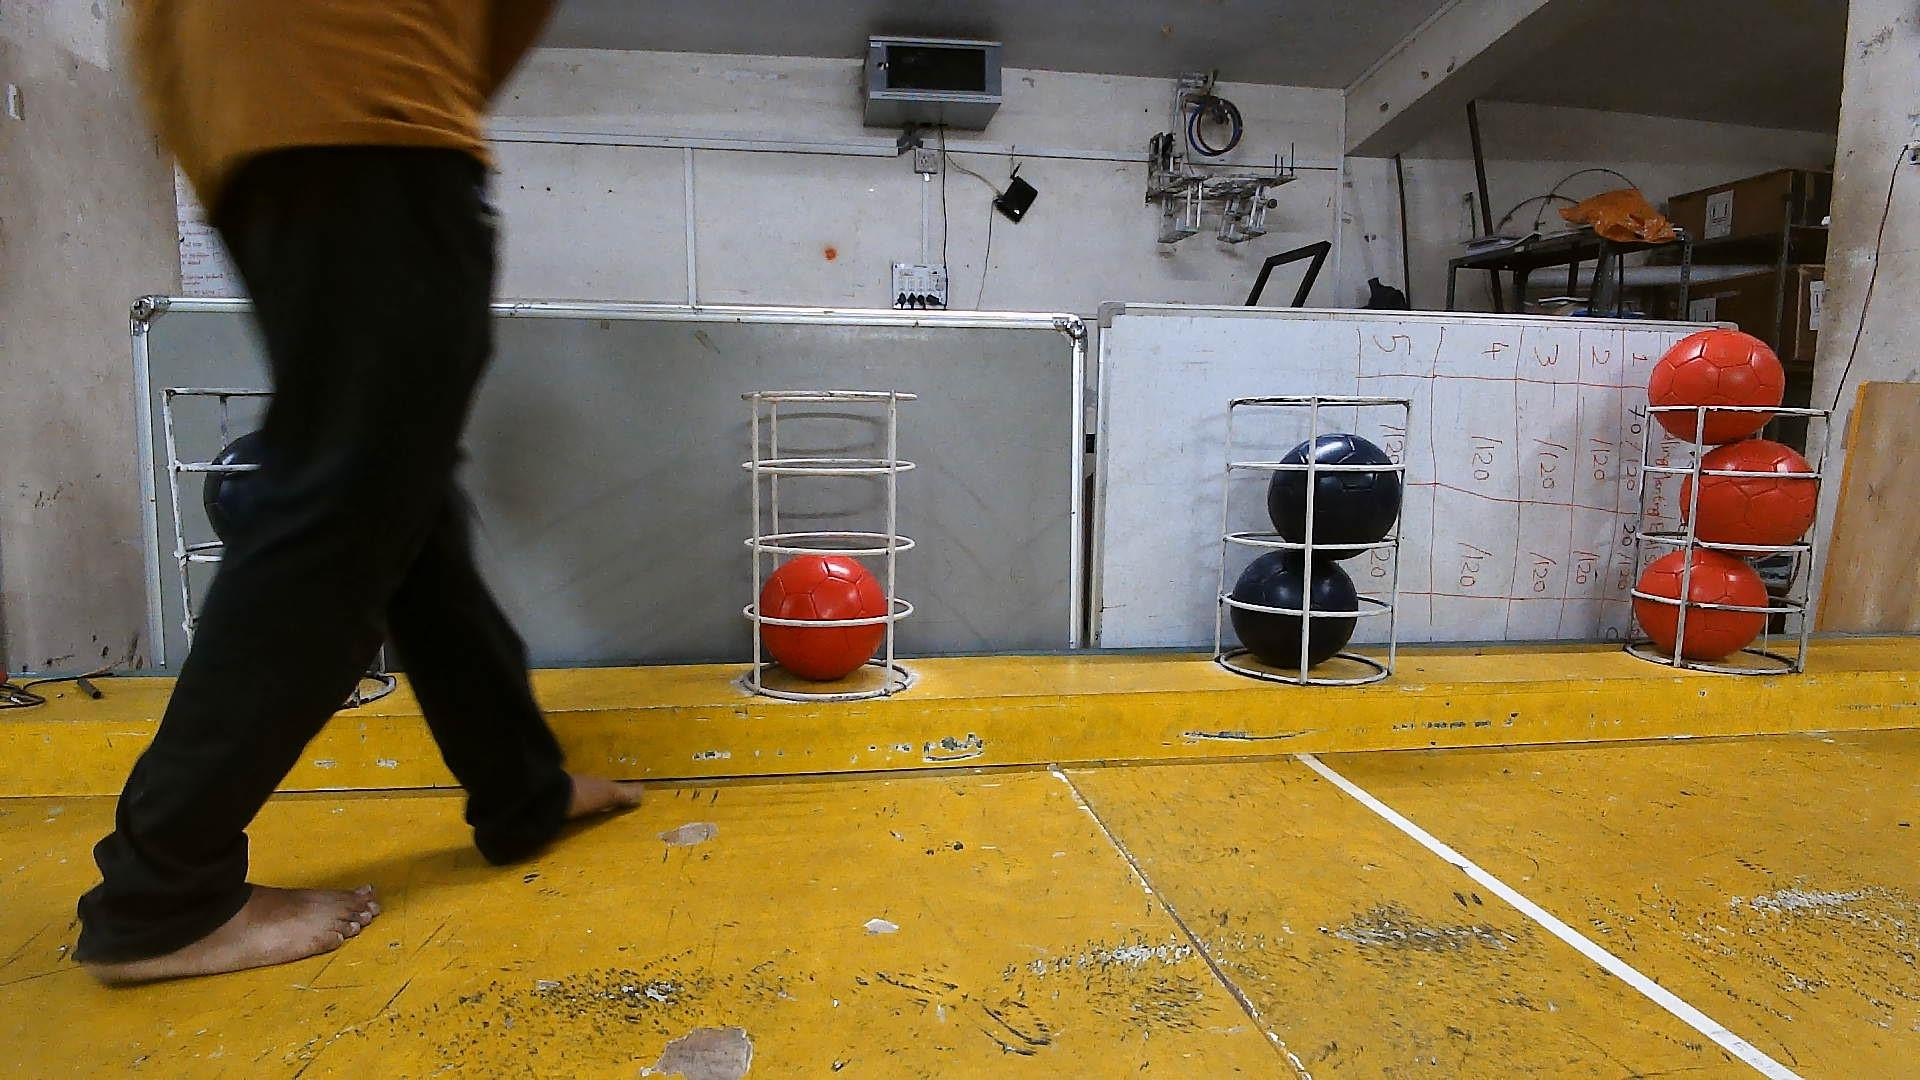dhoka: (1268, 431, 1402, 559), (1230, 548, 1358, 671)
laale: (758, 555, 889, 682), (1650, 330, 1785, 446), (1680, 439, 1819, 548), (1635, 548, 1770, 660)
